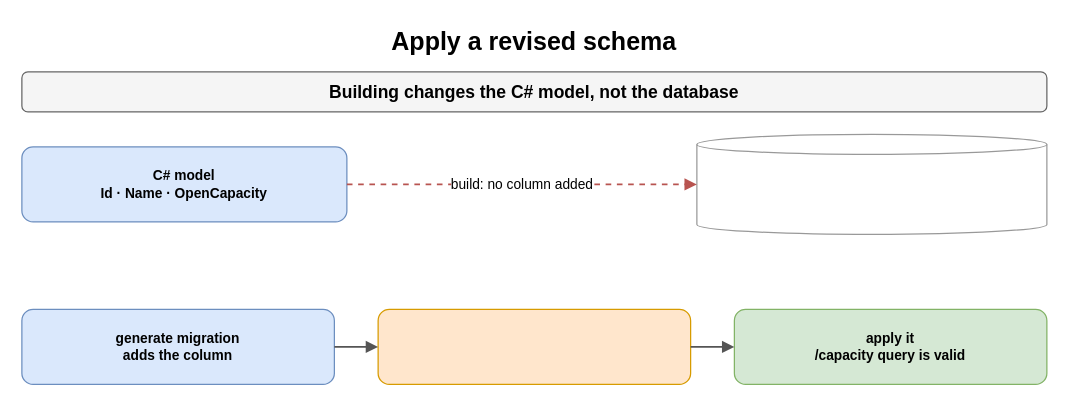
Some shapes in this 1069 by 406 pixel diagram are drawn without their labels. The centre of each missing label's shape, as x and y in pixels:
"database Id · Name" goes at (871,183).
"review: set the desired value for existing rows" goes at (534,346).
